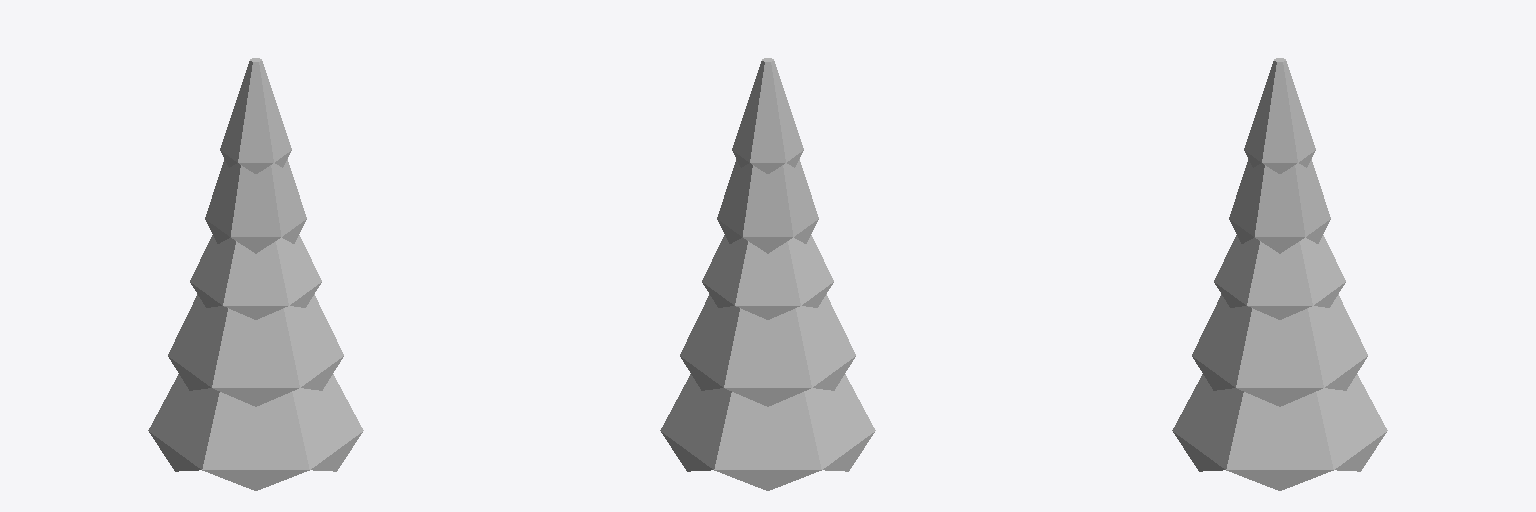
Rendered from tree_pineSmall_round3.obj.
3 views of the same model, side by side, from view 1: azimuth 30°, elevation 25°; view 2: azimuth 150°, elevation 25°; view 3: azimuth 270°, elevation 25° (orthographic).
Visible parts, largest first — view 1: tree_pineSmall_round3; view 2: tree_pineSmall_round3; view 3: tree_pineSmall_round3.
Boxes of the visible parts, <box> form: tree_pineSmall_round3: <box>148,58,363,490</box>; tree_pineSmall_round3: <box>660,58,875,490</box>; tree_pineSmall_round3: <box>1172,58,1387,490</box>.
Size of the model in its own units: 4.8 by 11.13 by 5.55.